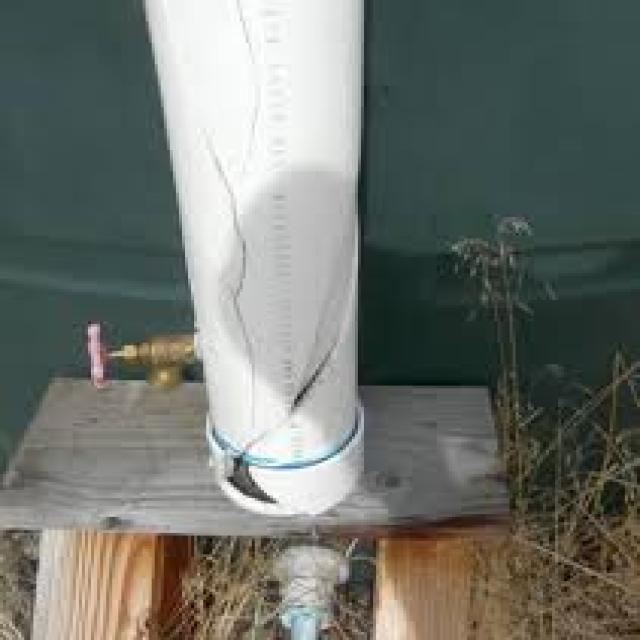crack: (208, 153, 259, 397), (232, 5, 274, 183), (223, 456, 283, 508)
